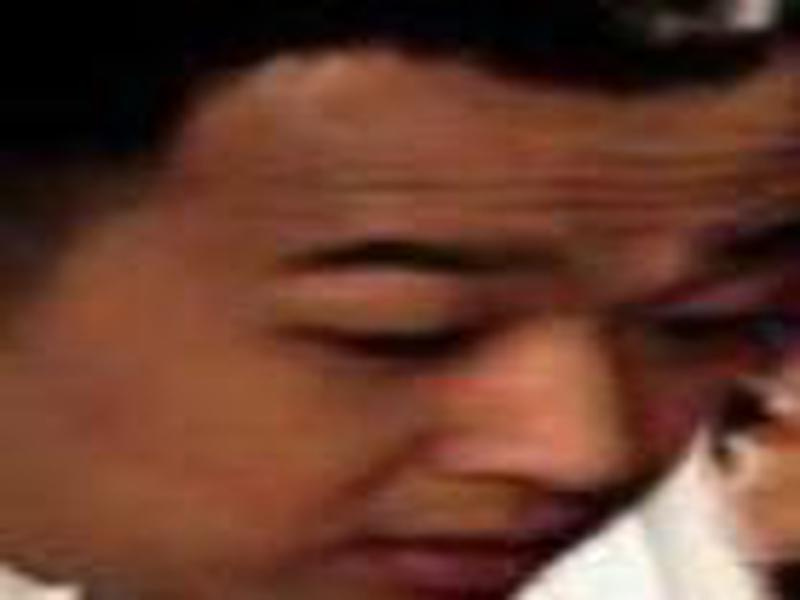without_mask: (7, 50, 800, 600)
